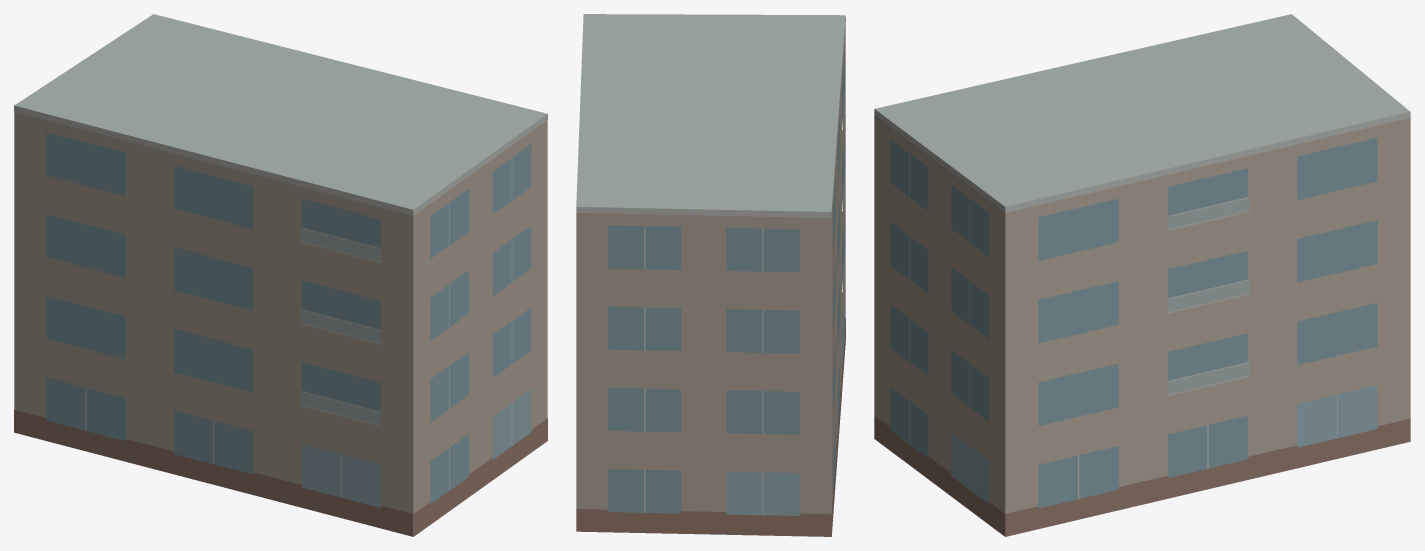
The model's file is survey-upis-33026611.glb.
3 views of the same model, side by side, from view 1: azimuth 30°, elevation 25°; view 2: azimuth 150°, elevation 25°; view 3: azimuth 270°, elevation 25° (orthographic).
Visible parts, largest first — view 1: survey-upis-33026611.tmp; view 2: survey-upis-33026611.tmp; view 3: survey-upis-33026611.tmp.
Boxes of the visible parts, <box> form: survey-upis-33026611.tmp: <box>14,14,547,536</box>; survey-upis-33026611.tmp: <box>576,14,845,536</box>; survey-upis-33026611.tmp: <box>874,14,1410,536</box>.
Size of the model in its own units: 16.56 by 13.2 by 19.44.
